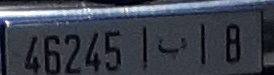2: (63, 32, 82, 75)
4: (21, 34, 42, 75), (83, 31, 102, 74)
5: (101, 28, 125, 71)
6: (43, 32, 63, 75)
8: (223, 21, 242, 65)
b: (155, 35, 188, 60)
